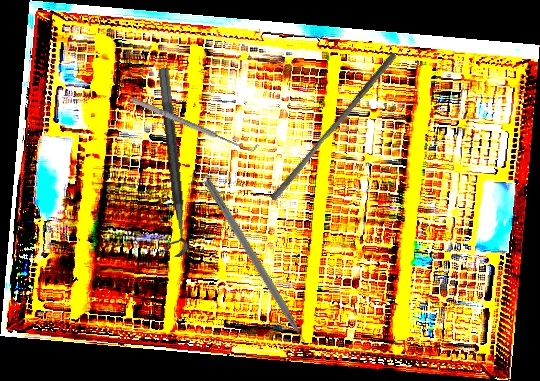Chopper: (193, 177, 318, 366)
Fixation Ring: (141, 67, 190, 259)
Hook Surgical: (127, 90, 260, 157)
Pusher: (269, 47, 398, 206)
